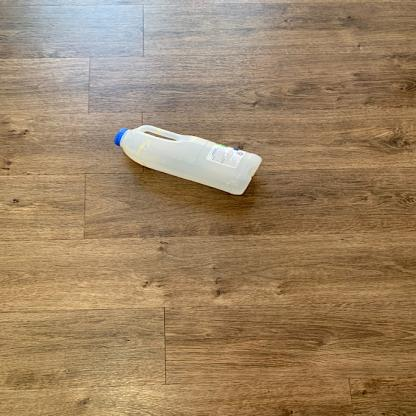trash: (110, 124, 266, 198)
